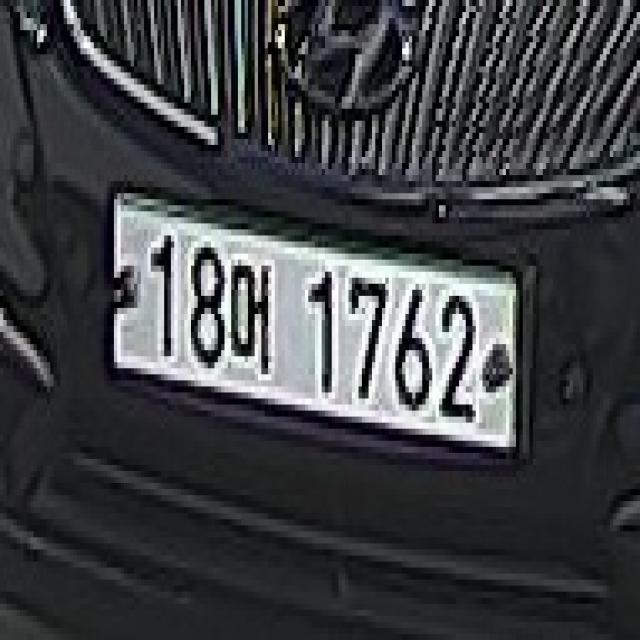1: (302, 260, 342, 404), (144, 224, 178, 368)
2: (439, 284, 479, 434)
6: (392, 272, 436, 428)
7: (345, 266, 389, 416)
8: (184, 230, 228, 374)
license_plate: (100, 175, 530, 477)
meo: (228, 242, 275, 392)
